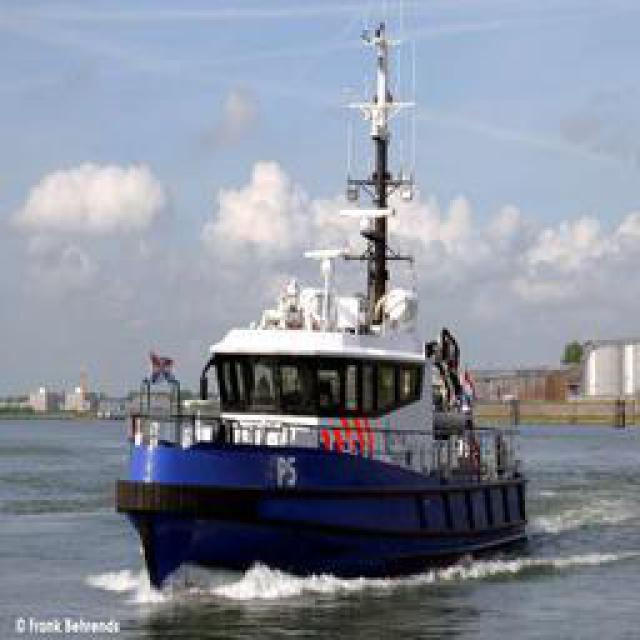Ship: (120, 211, 520, 579)
